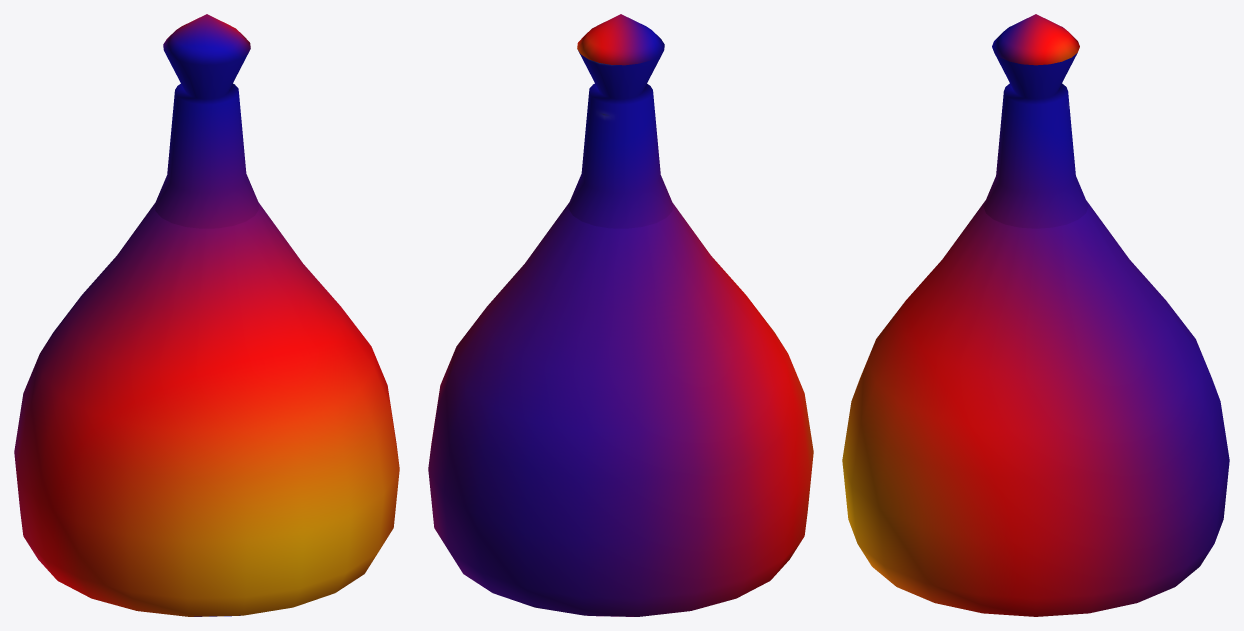
File: potion3.fbx
3 renders of one model, left to right at view 1: azimuth 30°, elevation 25°; view 2: azimuth 150°, elevation 25°; view 3: azimuth 270°, elevation 25°, orthographic.
Visible parts, largest first — view 1: pCylinder1; view 2: pCylinder1; view 3: pCylinder1.
Part boxes in pixels (x1,y1,x2,y2): pCylinder1: [14, 14, 399, 616]; pCylinder1: [428, 14, 813, 616]; pCylinder1: [842, 14, 1229, 616].
Size of the model in its own units: 2.35 by 3.78 by 2.35.
